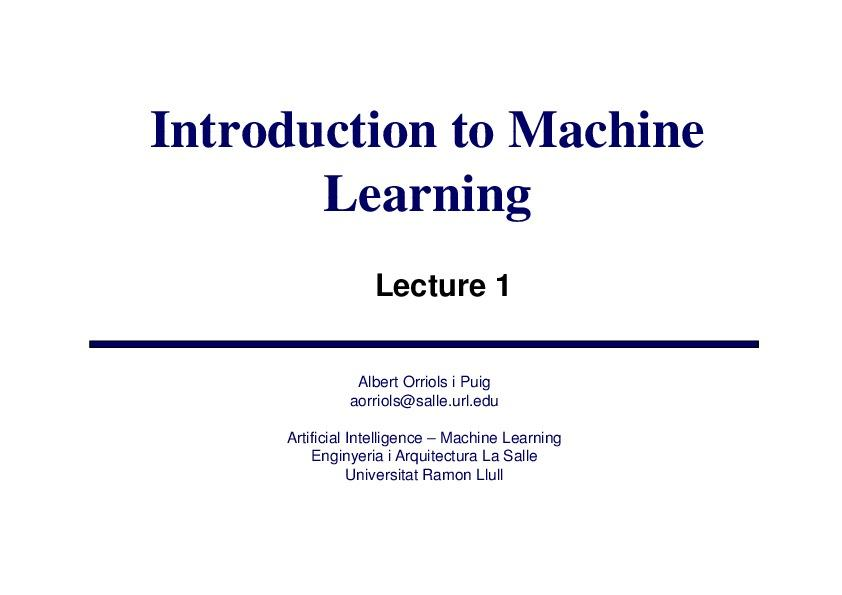subtitle: (273, 363, 597, 503), (357, 252, 545, 325)
title: (126, 82, 773, 228)
